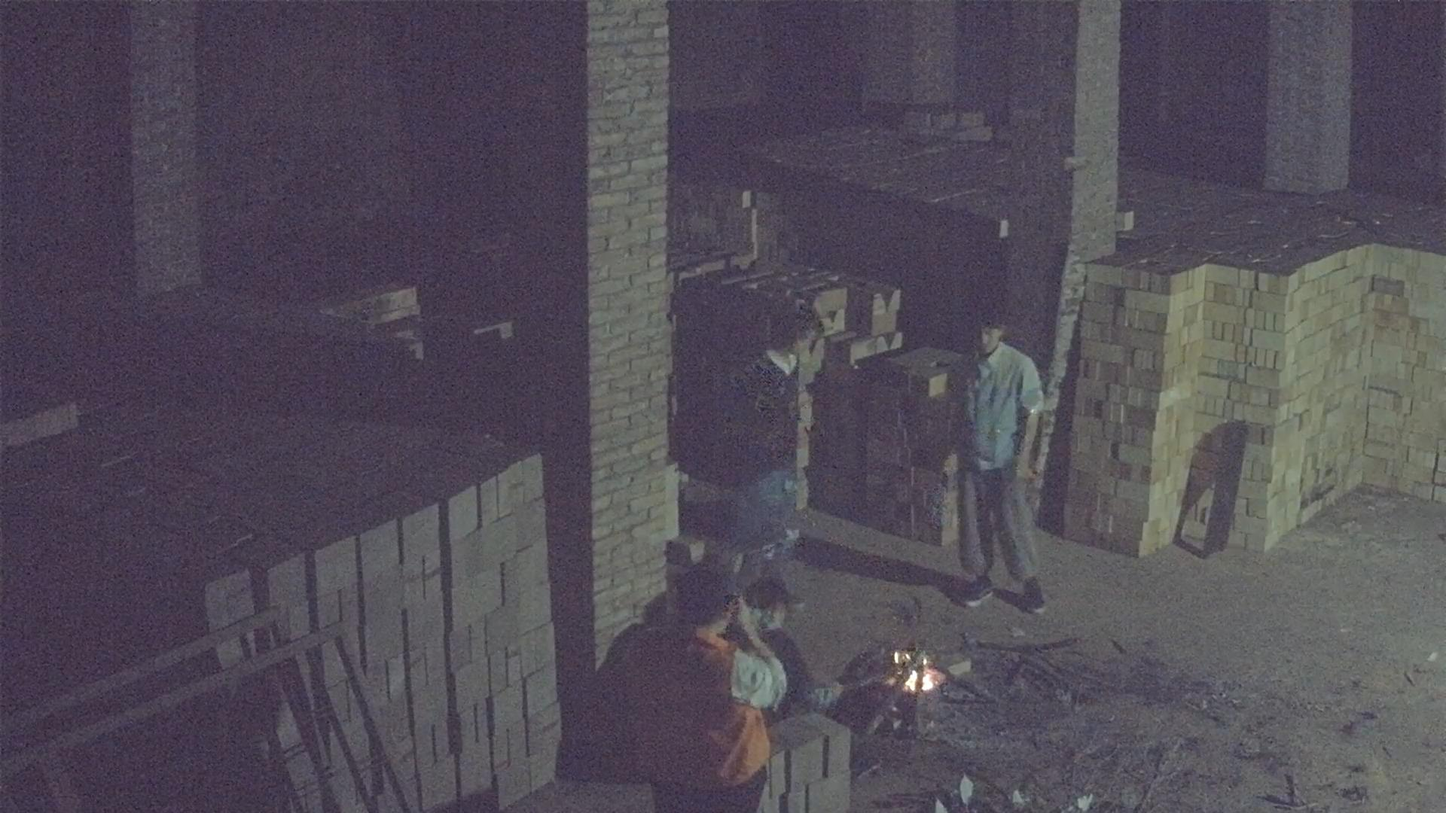fire: (886, 649, 938, 694)
